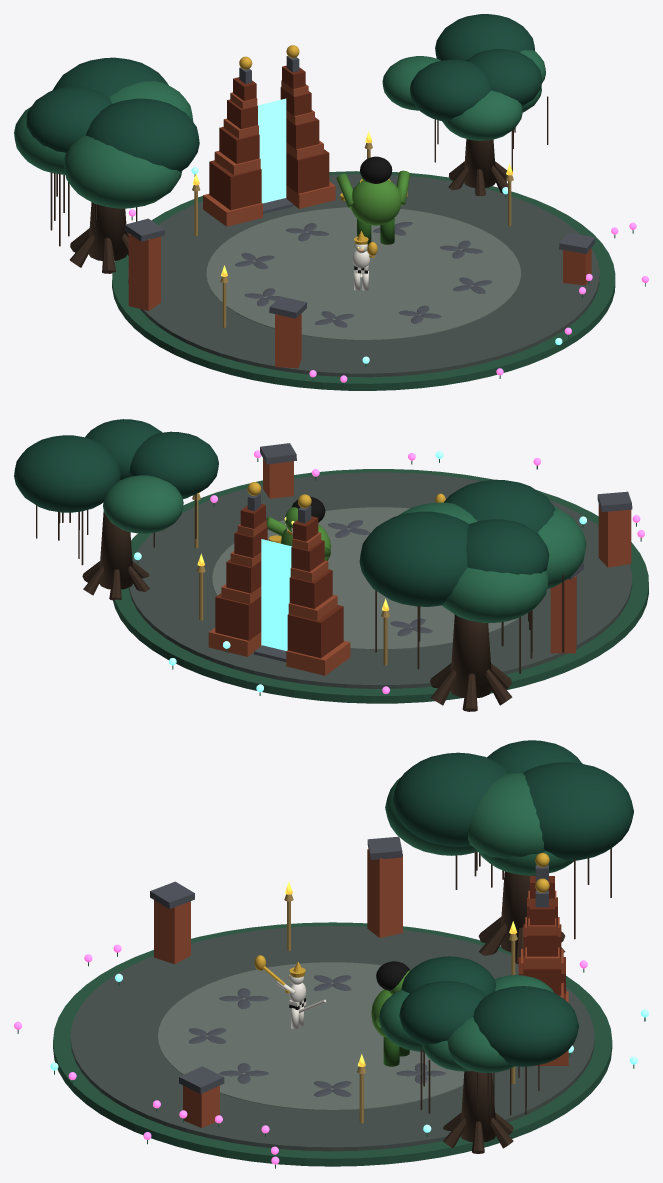
The model's file is diorama_dandaka.glb.
The picture shows the model from 3 angles, top to bottom: view 1: azimuth 30°, elevation 25°; view 2: azimuth 150°, elevation 25°; view 3: azimuth 270°, elevation 25°; orthographic projection. The views are drawn at different scales.
Visible parts, largest first — view 1: Plaza, PlazaInner, MossRing, Canopy5, Canopy4, Canopy3, Canopy3.001, Canopy1.001, GateVeil_Glow, Canopy5.001, Canopy1, Canopy4.001 (+22 smaller); view 2: Plaza, MossRing, PlazaInner, Canopy1, Canopy1.001, Canopy2, Canopy3.001, Canopy3, Canopy2.001, Canopy5, GateVeil_Glow, Trunk (+24 smaller); view 3: Plaza, PlazaInner, MossRing, Canopy1, Canopy5, Canopy1.001, Canopy6, Canopy5.001, CandiPilar2, Canopy3.001, CandiPilar0, Canopy0.001 (+14 smaller).
Part boxes in pixels (x1,y1,x2,y2): Plaza: [128, 174, 599, 377]; PlazaInner: [206, 207, 520, 340]; MossRing: [112, 171, 615, 390]; Canopy5: [86, 98, 199, 171]; Canopy4: [63, 135, 182, 208]; Canopy3: [26, 86, 112, 152]; Canopy3.001: [410, 59, 491, 121]; Canopy1.001: [435, 14, 534, 60]; GateVeil_Glow: [257, 98, 286, 203]; Canopy5.001: [466, 49, 542, 106]; Canopy1: [52, 57, 168, 97]; Canopy4.001: [442, 90, 522, 140]; Plaza: [128, 472, 632, 688]; MossRing: [113, 469, 648, 703]; PlazaInner: [212, 507, 523, 649]; Canopy1: [359, 511, 469, 606]; Canopy1.001: [14, 435, 120, 512]; Canopy2: [442, 567, 548, 622]; Canopy3.001: [129, 431, 218, 497]; Canopy3: [466, 519, 549, 574]; Canopy2.001: [103, 475, 183, 533]; Canopy5: [444, 479, 555, 532]; GateVeil_Glow: [261, 539, 291, 650]; Trunk: [450, 614, 491, 697]; Plaza: [70, 926, 594, 1151]; PlazaInner: [158, 962, 464, 1110]; MossRing: [53, 922, 612, 1166]; Canopy1: [523, 762, 633, 860]; Canopy5: [392, 752, 508, 846]; Canopy1.001: [473, 986, 578, 1066]; Canopy6: [467, 773, 544, 858]; Canopy5.001: [399, 981, 486, 1045]; CandiPilar2: [367, 849, 402, 937]; Canopy3.001: [401, 956, 496, 995]; CandiPilar0: [154, 899, 190, 964]; Canopy0.001: [447, 1017, 514, 1072].
Size of what is drawn, in the model's own units: 21.91 by 7.49 by 21.8.
